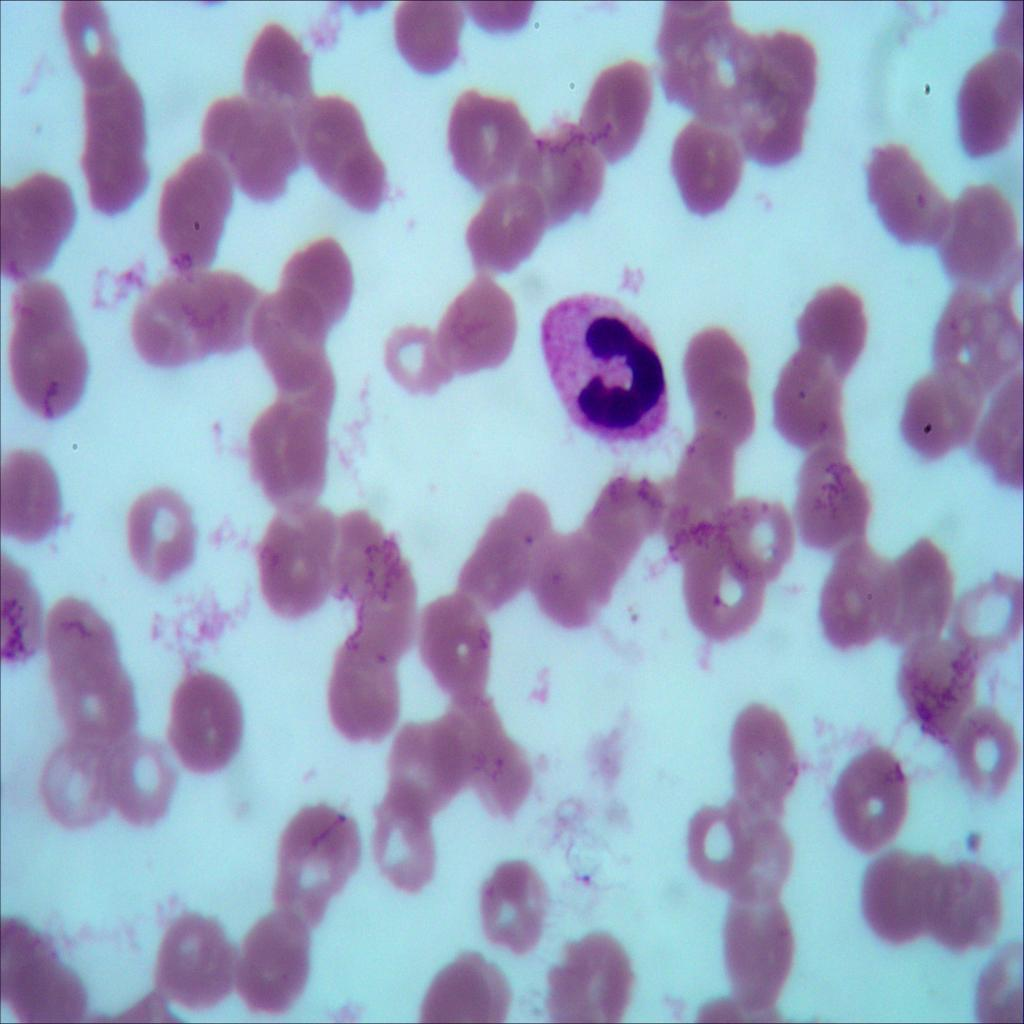Neutrofil: (530, 278, 676, 438)
